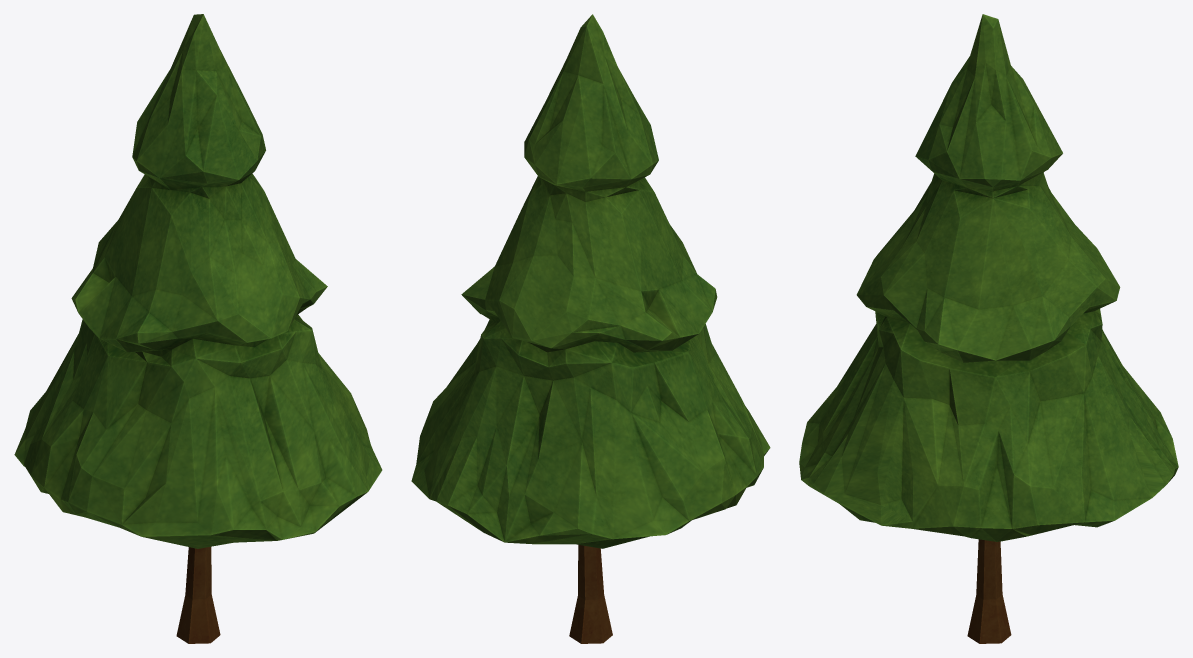
The model's file is TreeB-Ep3.fbx.
The picture shows the model from 3 angles, left to right: view 1: azimuth 30°, elevation 25°; view 2: azimuth 150°, elevation 25°; view 3: azimuth 270°, elevation 25°; orthographic projection.
Visible parts, largest first — view 1: TreeB; view 2: TreeB; view 3: TreeB.
Part boxes in pixels (left/top/right/bottom): TreeB: left=14, top=14, right=382, bottom=643; TreeB: left=411, top=14, right=770, bottom=643; TreeB: left=799, top=14, right=1178, bottom=643.
Size of the model in its own units: 1785 by 3530 by 1950.
